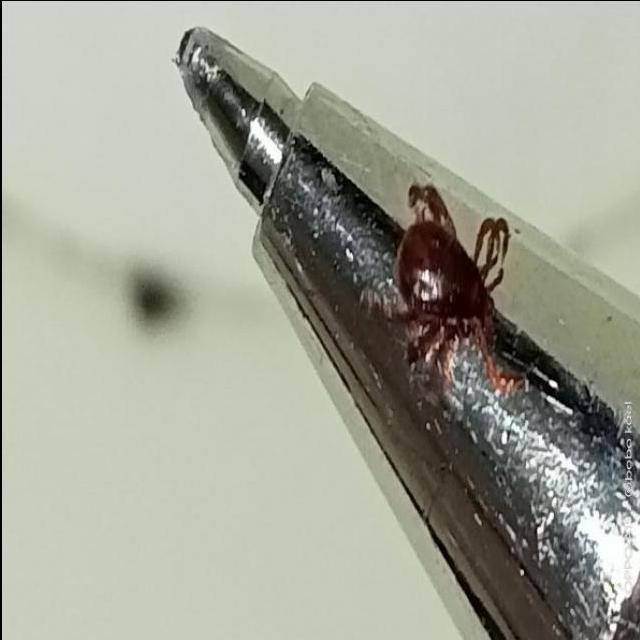Rhipicephalus Sanguineus-M: (387, 182, 531, 393)
